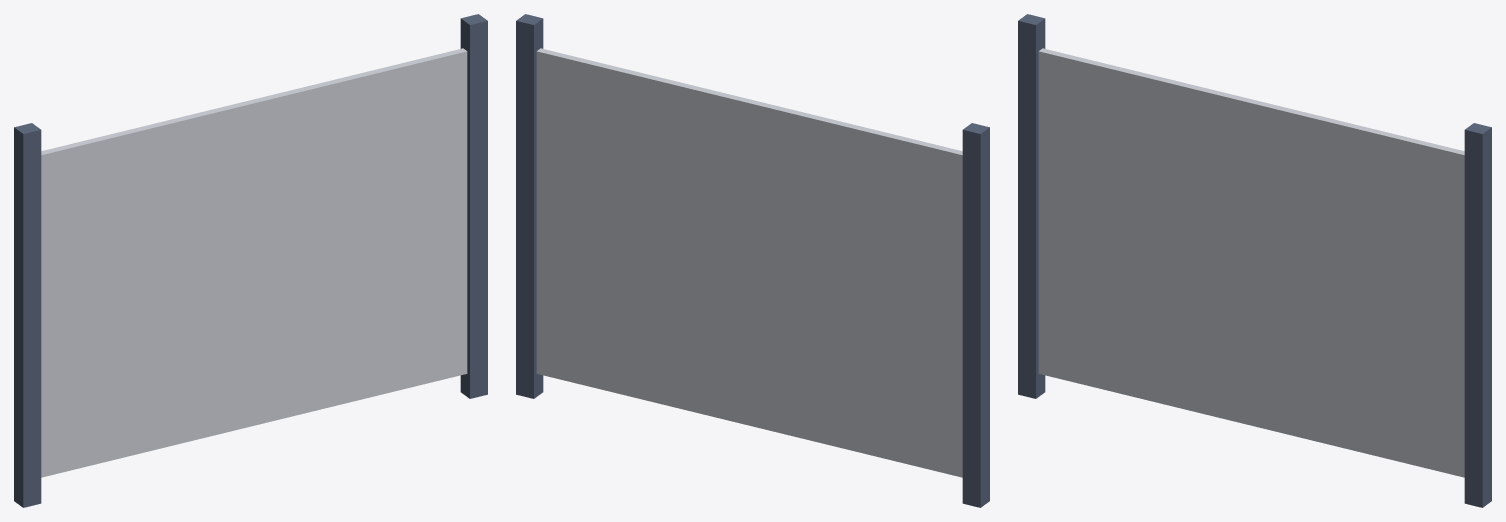
The model's file is stand.glb.
3 views of the same model, side by side, from view 1: azimuth 30°, elevation 25°; view 2: azimuth 150°, elevation 25°; view 3: azimuth 330°, elevation 25° (orthographic).
Visible parts, largest first — view 1: mesh; view 2: mesh; view 3: mesh.
Part boxes in pixels (x1,y1,x2,y2): mesh: (14, 14, 487, 507); mesh: (516, 14, 989, 507); mesh: (1018, 14, 1491, 507).
Bounding box in the file's own units: 5.2 × 4 × 0.18.
1 material, 1 textured.
